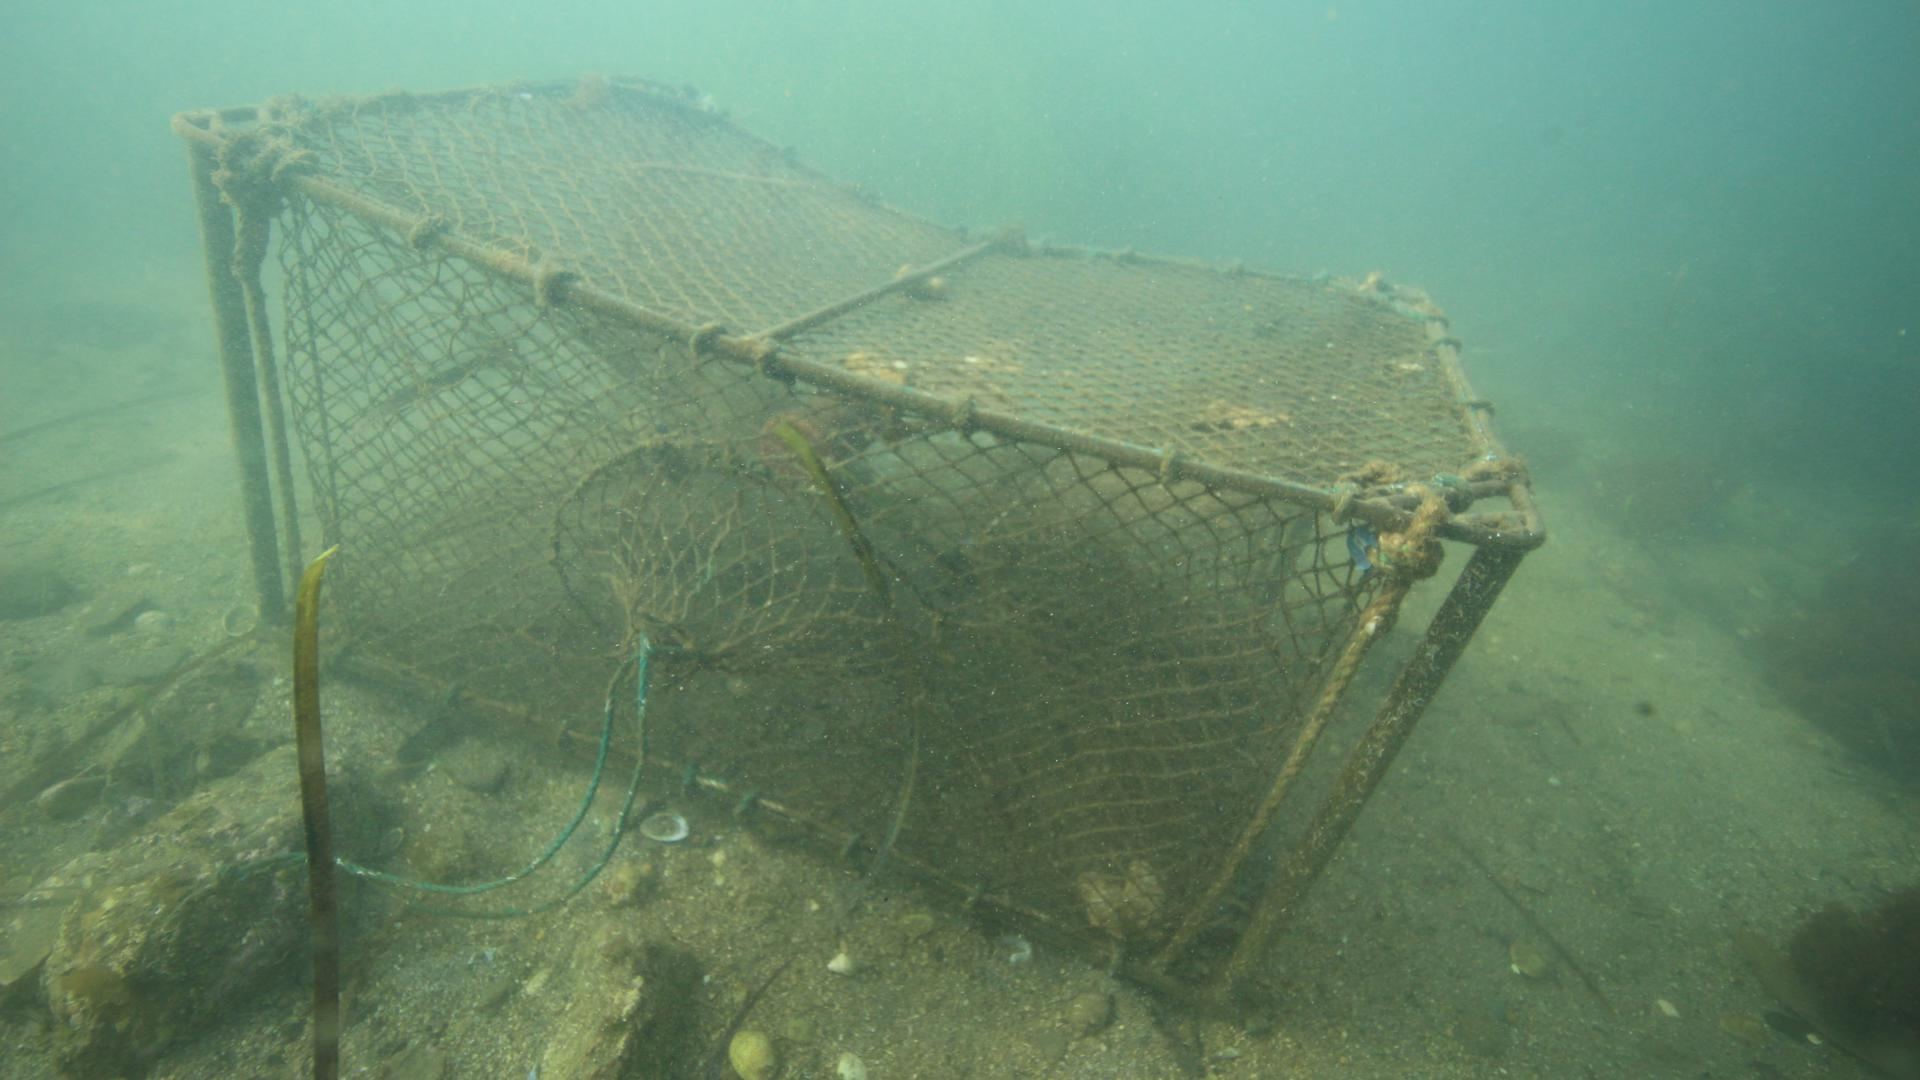rectangular fish trap: (171, 71, 1545, 1021)
